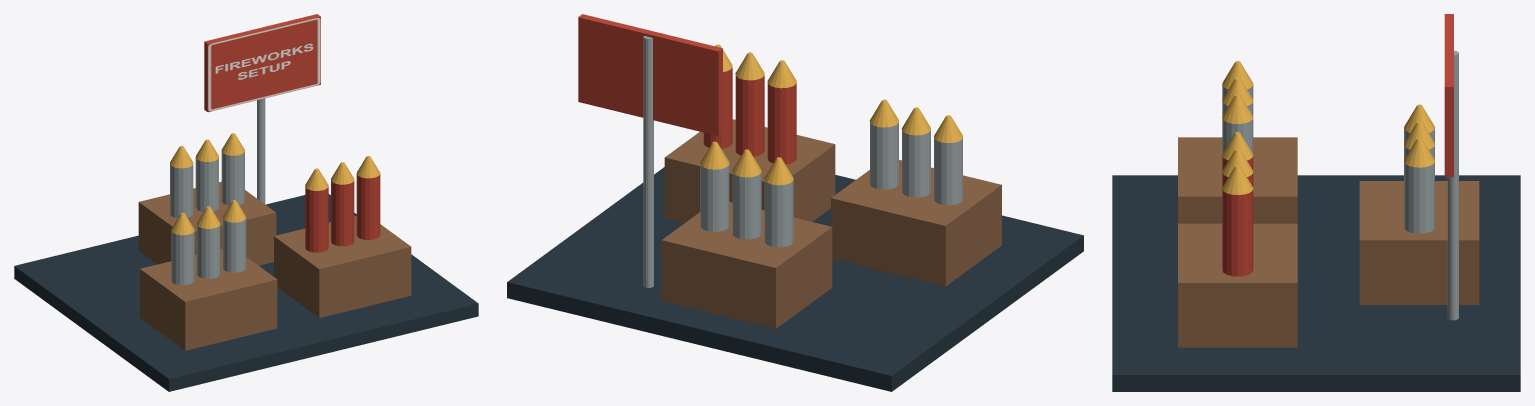
Rendered from scendance-plan-fireworks.glb.
3 renders of one model, left to right at view 1: azimuth 30°, elevation 25°; view 2: azimuth 150°, elevation 25°; view 3: azimuth 270°, elevation 25°, orthographic. The views are drawn at different scales.
Bounding box in the file's own units: 2.52 × 1.67 × 2.18.
Materials: 6 (1 with a texture image).
